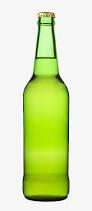Glass bottle: (16, 6, 82, 209)
